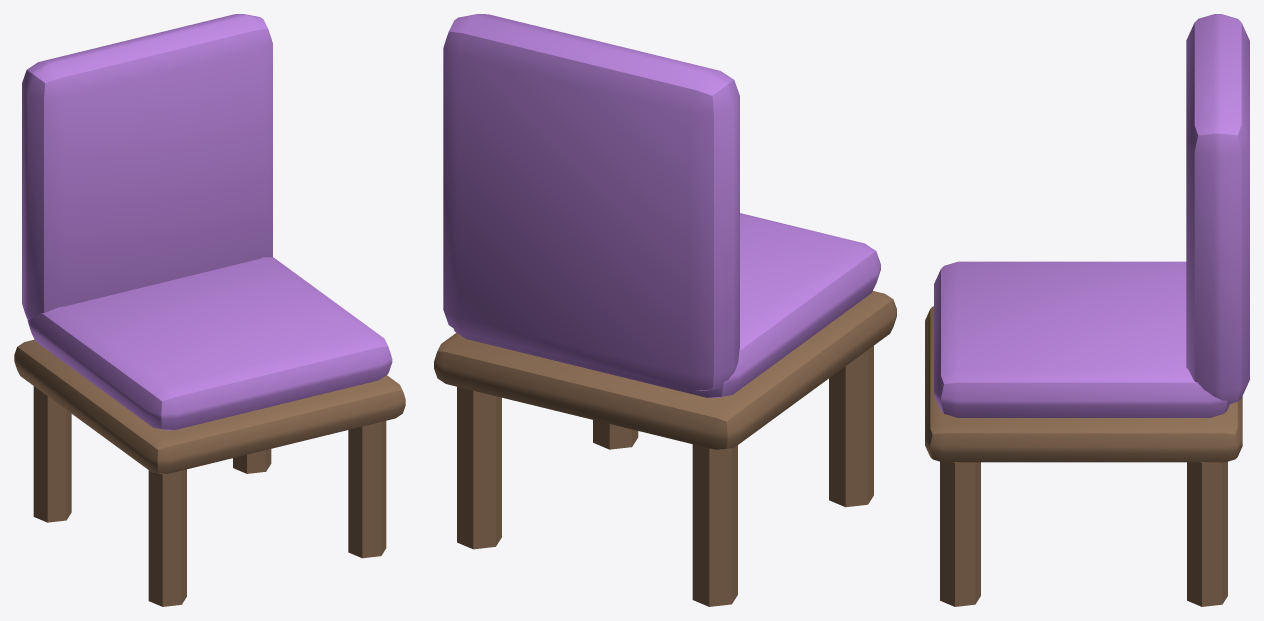
The model's file is Chair_Purple.fbx.
The picture shows the model from 3 angles, left to right: view 1: azimuth 30°, elevation 25°; view 2: azimuth 150°, elevation 25°; view 3: azimuth 270°, elevation 25°; orthographic projection. The views are drawn at different scales.
Visible parts, largest first — view 1: Chair_Purple; view 2: Chair_Purple; view 3: Chair_Purple.
Part boxes in pixels (x1,y1,x2,y2): Chair_Purple: [14, 14, 405, 606]; Chair_Purple: [434, 14, 896, 606]; Chair_Purple: [925, 14, 1249, 606].
Size of the model in its own units: 0.9 by 1.5 by 0.92.
